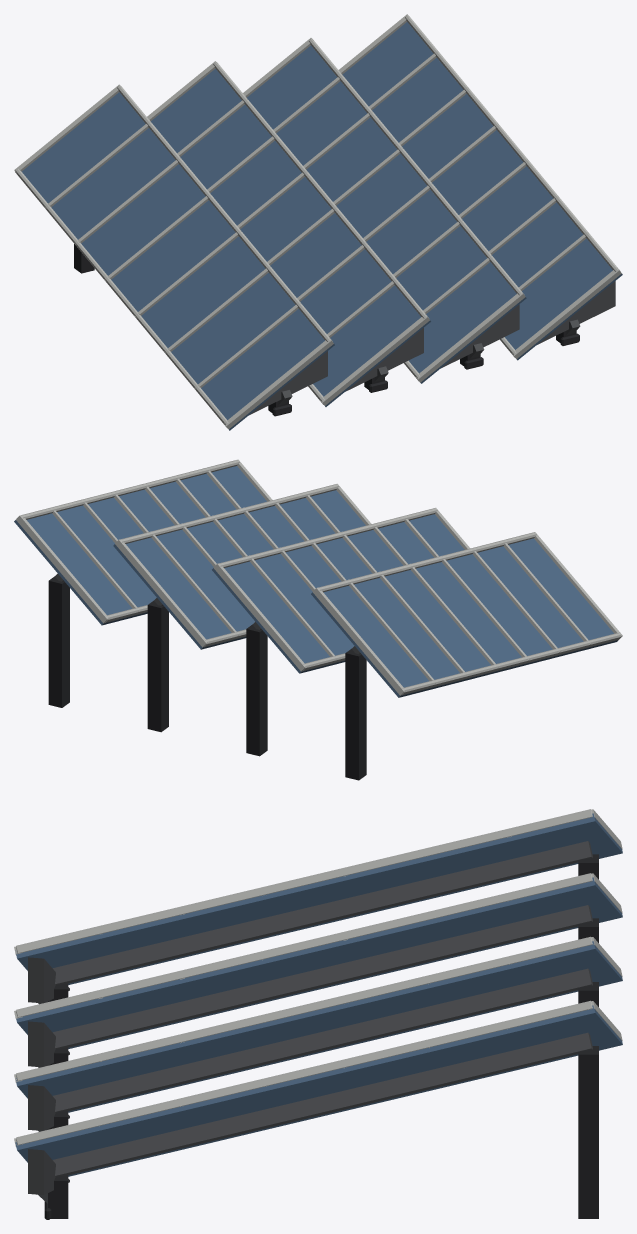
File: solar-panel.glb
3 renders of one model, top to bottom at view 1: azimuth 30°, elevation 25°; view 2: azimuth 150°, elevation 25°; view 3: azimuth 270°, elevation 25°, orthographic. The views are drawn at different scales.
Parts seen in each view (by area): view 1: body; view 2: body; view 3: body.
Boxes of the visible parts, x1=… form: body: x1=14, y1=14, x2=622, y2=430; body: x1=14, y1=459, x2=622, y2=780; body: x1=14, y1=809, x2=622, y2=1219.
Size of the model in its own units: 2.96 by 1.3 by 2.95.
